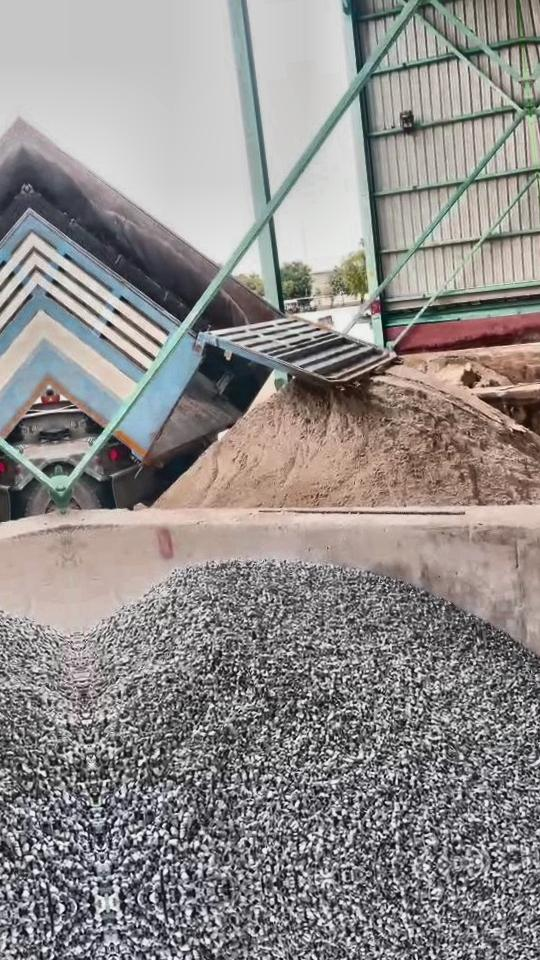gravel: (77, 561, 540, 902)
sand: (157, 367, 540, 508), (412, 355, 509, 388)
